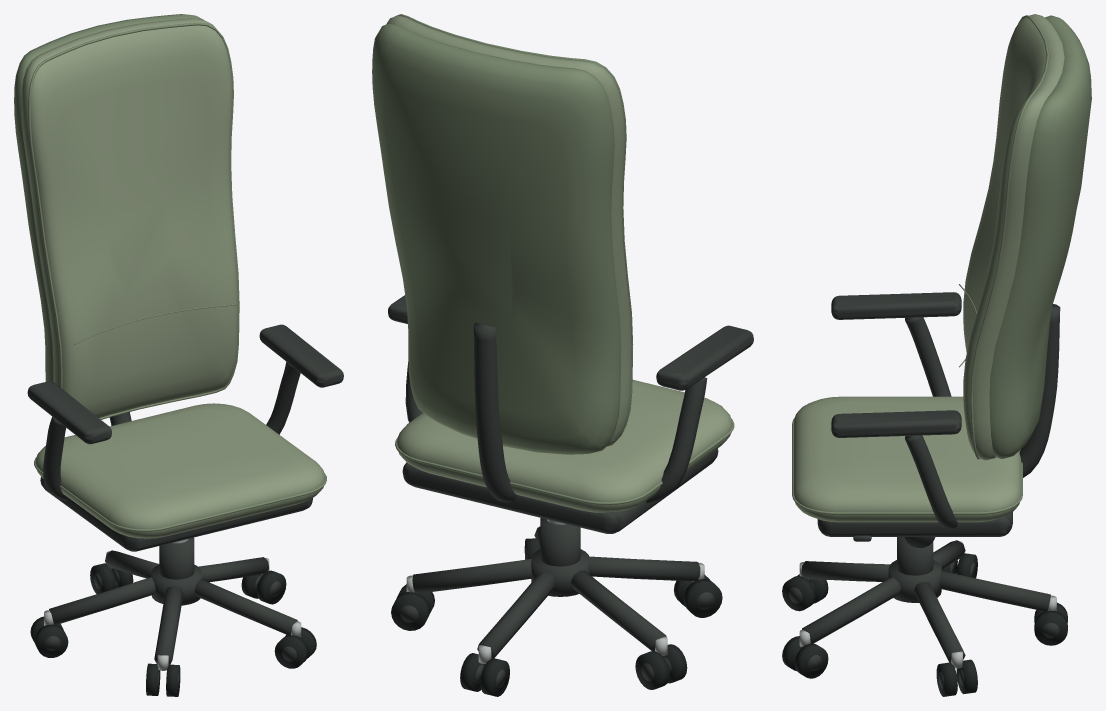
File: furniture-executive-chair.glb
3 views of the same model, side by side, from view 1: azimuth 30°, elevation 25°; view 2: azimuth 150°, elevation 25°; view 3: azimuth 270°, elevation 25° (orthographic). The views are drawn at different scales.
Visible parts, largest first — view 1: executive_chair__studio_fabric_sage, executive_chair__studio_charcoal_frame, executive_chair__studio_fabric_sage_edge, executive_chair__studio_rubber; view 2: executive_chair__studio_fabric_sage_edge, executive_chair__studio_charcoal_frame, executive_chair__studio_fabric_sage, executive_chair__studio_rubber, executive_chair__studio_brushed_steel; view 3: executive_chair__studio_fabric_sage, executive_chair__studio_charcoal_frame, executive_chair__studio_fabric_sage_edge, executive_chair__studio_rubber, executive_chair__studio_brushed_steel.
Boxes of the visible parts, x1,y1,x2,y2 form: executive_chair__studio_fabric_sage: (21,18,325,538); executive_chair__studio_charcoal_frame: (27,324,343,688); executive_chair__studio_fabric_sage_edge: (14,14,326,531); executive_chair__studio_rubber: (30,563,316,696); executive_chair__studio_fabric_sage_edge: (372,14,734,504); executive_chair__studio_charcoal_frame: (388,295,753,687); executive_chair__studio_fabric_sage: (386,15,732,512); executive_chair__studio_rubber: (391,538,722,696); executive_chair__studio_brushed_steel: (406,526,704,663); executive_chair__studio_fabric_sage: (793,14,1064,522); executive_chair__studio_charcoal_frame: (788,292,1060,688); executive_chair__studio_fabric_sage_edge: (792,15,1091,514); executive_chair__studio_rubber: (782,553,1067,696); executive_chair__studio_brushed_steel: (799,541,1056,668).
Bounding box in the file's own units: 0.651 × 1.34 × 0.6451.
